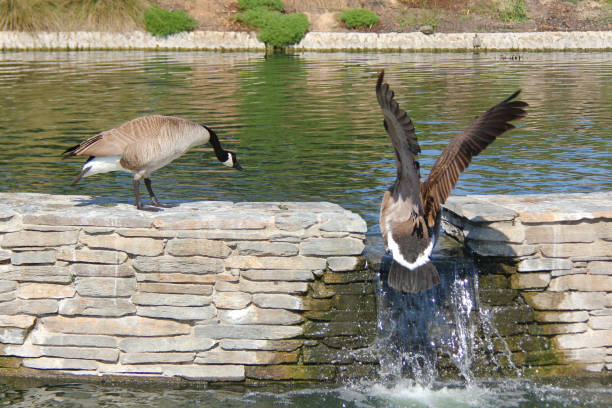goose: (373, 71, 530, 295), (56, 111, 246, 211)
